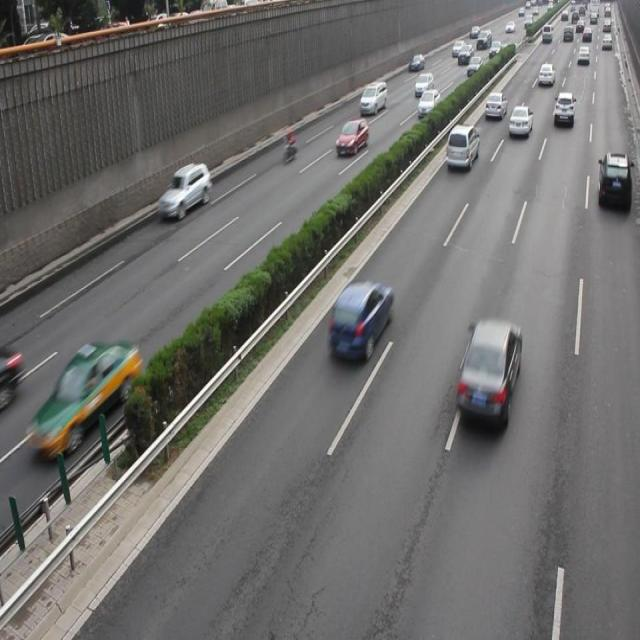car: (30, 341, 140, 458), (454, 316, 520, 430), (327, 281, 390, 360), (158, 159, 211, 220), (596, 150, 630, 213), (336, 118, 368, 155), (359, 81, 387, 115), (508, 104, 532, 138), (552, 91, 573, 126), (417, 88, 440, 119), (483, 90, 505, 119)
truck: (444, 123, 478, 169)
